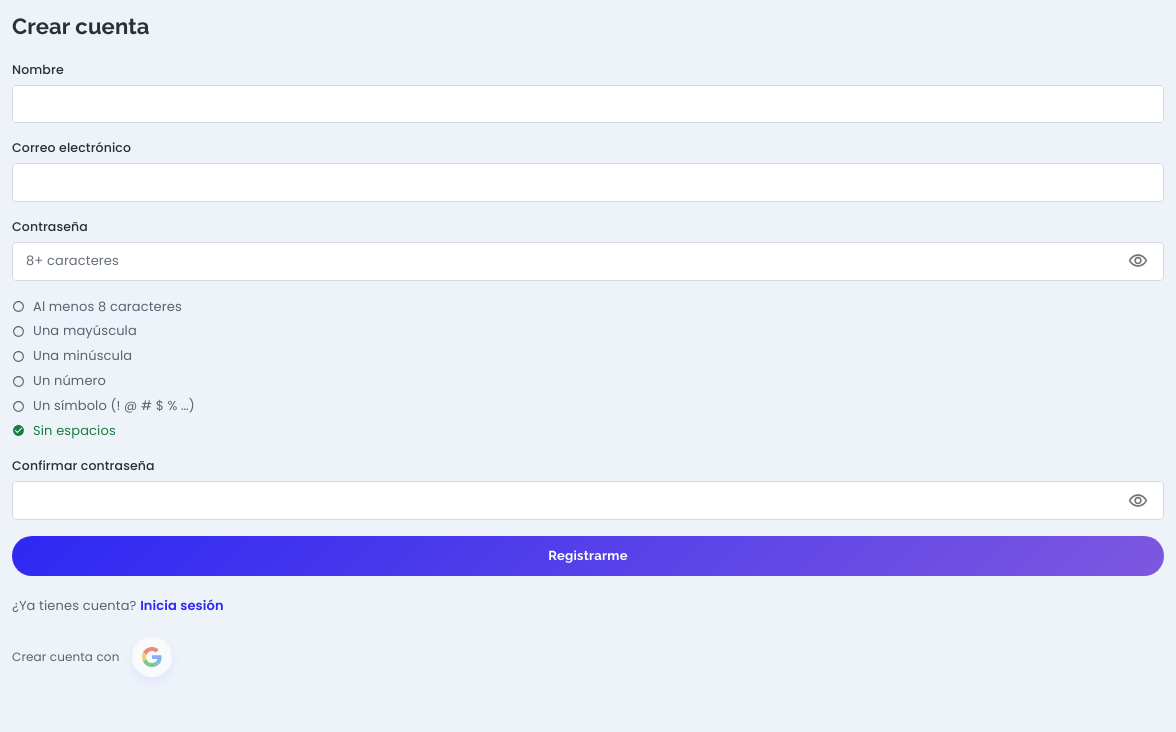
Test: <RegisterPage /> › exige que las contraseñas coincidan
Step 1. Type "Ana" into the field labelled "Nombre" → point(588, 104), box [12,85,1164,123]
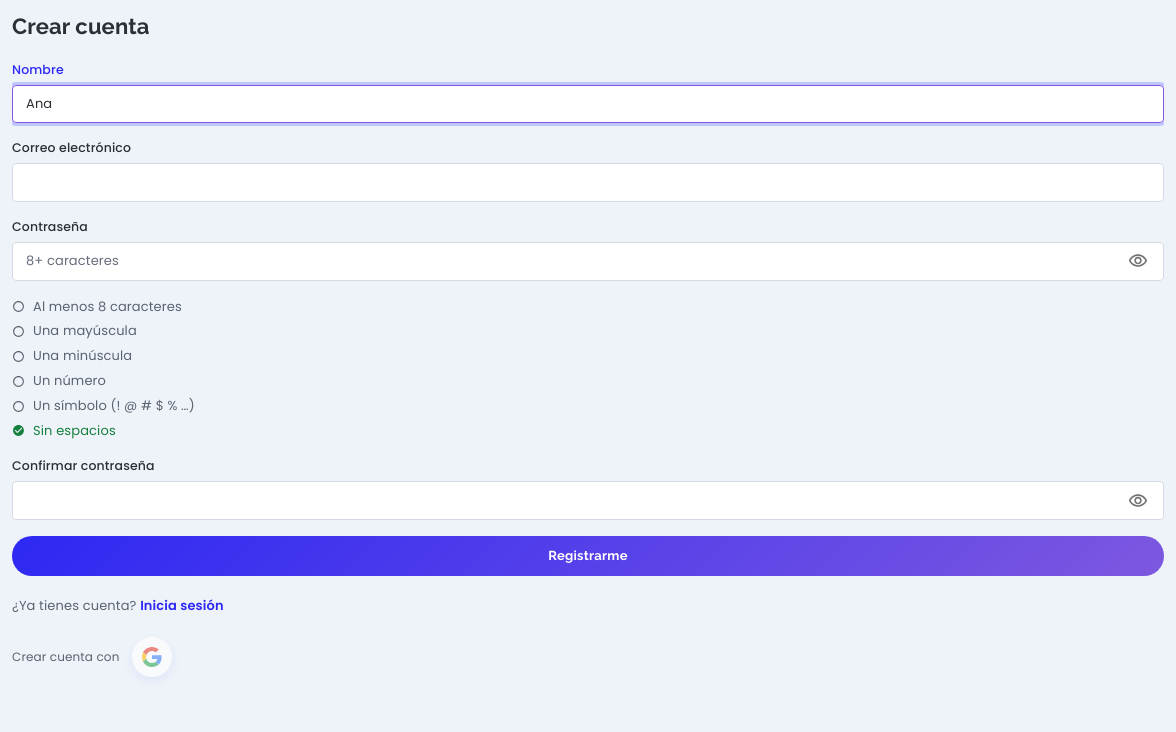
Step 2. Type "ana@example.com" into the field labelled "Correo electrónico" → point(588, 183), box [12,163,1164,202]
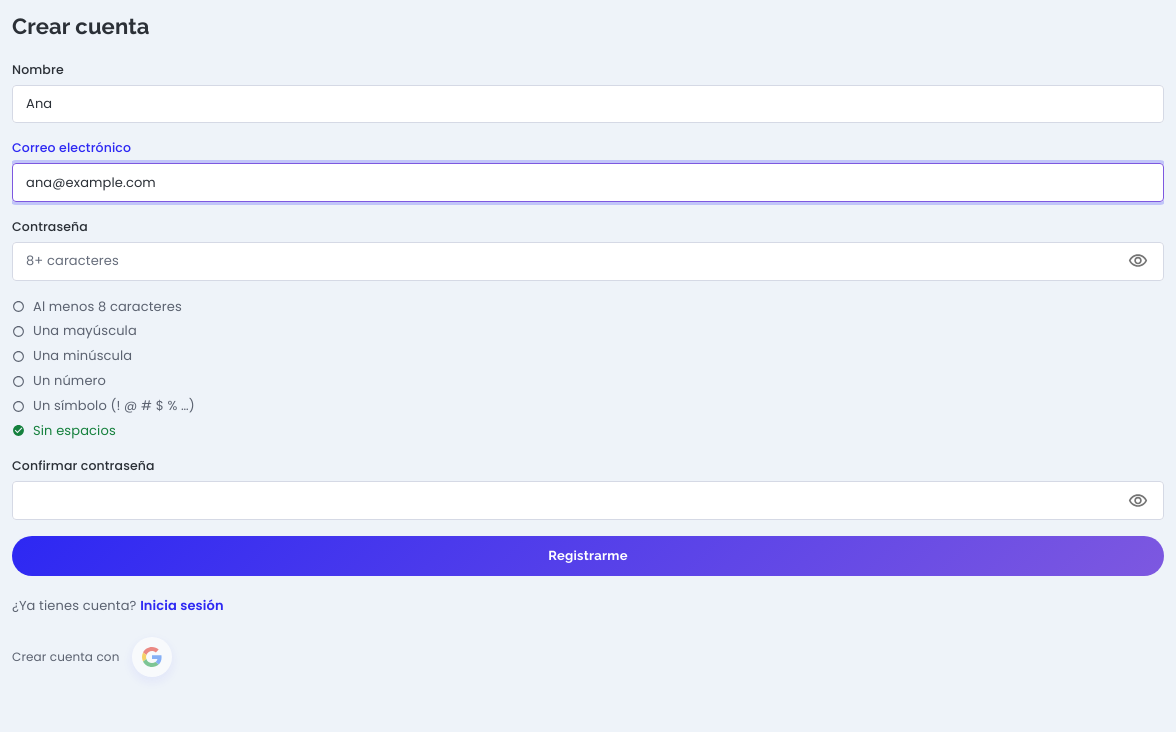
Step 3. Type "Segura#12345" into the password field labelled "Contraseña" → point(564, 261), box [12,242,1115,281]
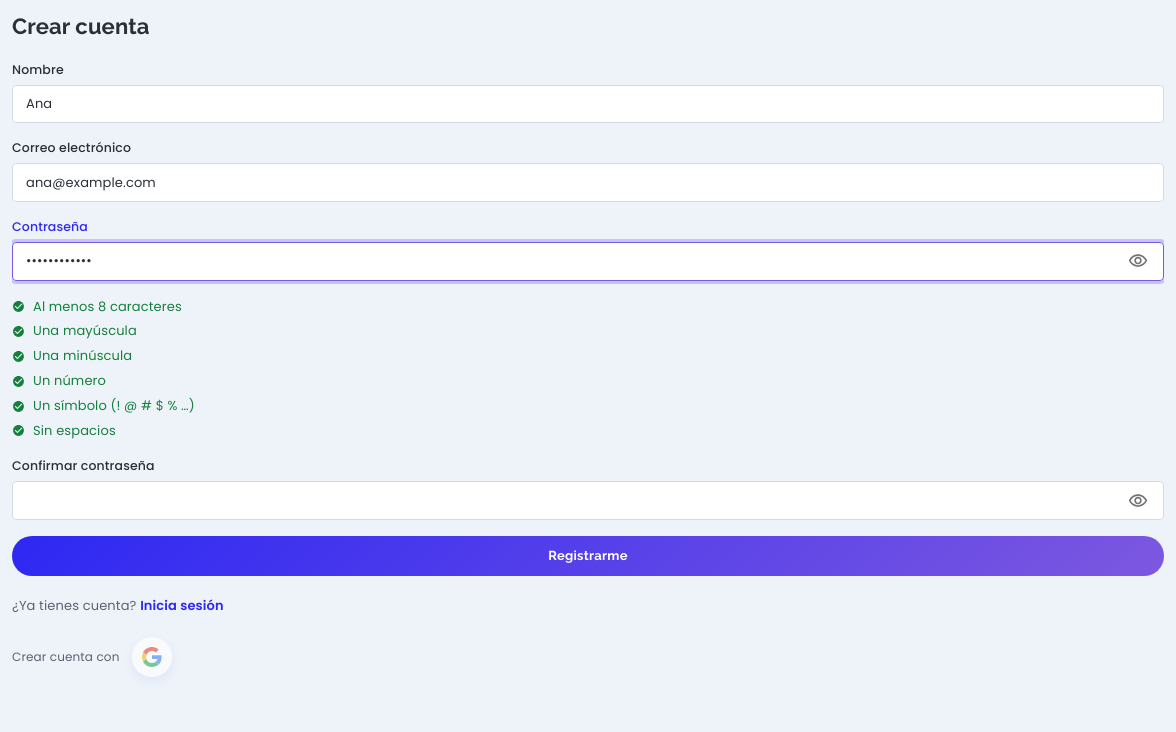
Step 4. Type "Otra#12345" into the password field labelled "Confirmar contraseña" → point(564, 501), box [12,481,1115,520]
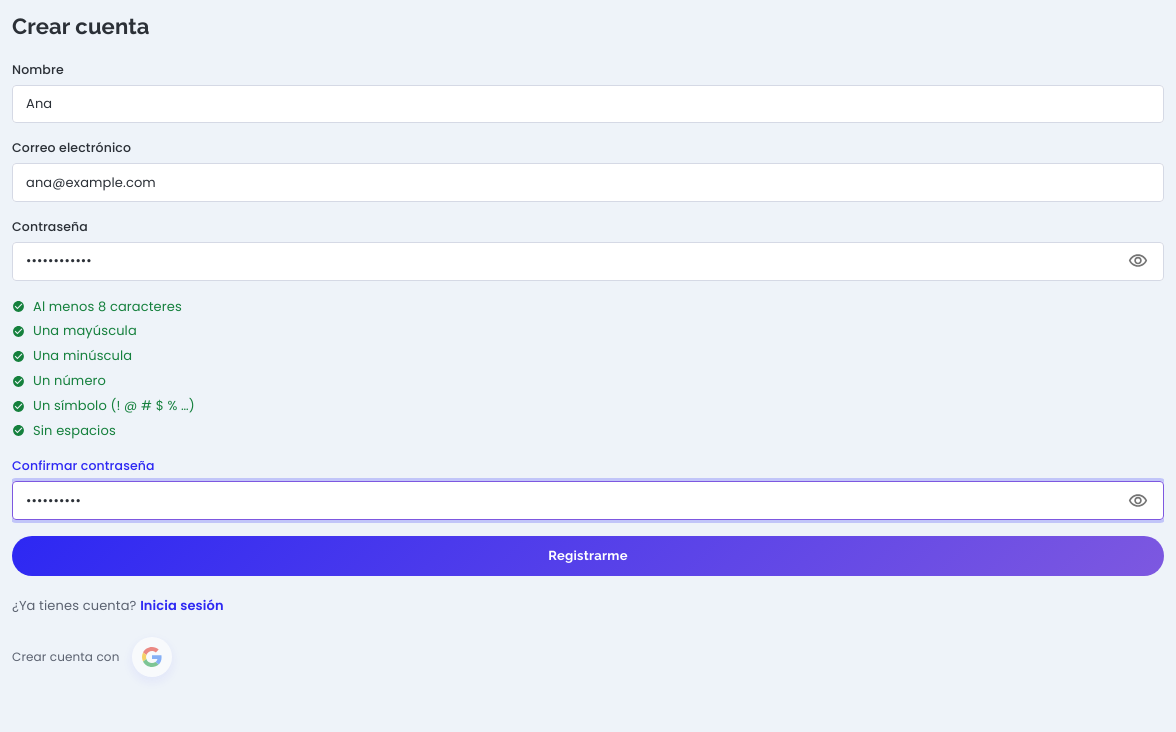
Step 5. Click the button "Registrarme" → point(588, 556), box [12,536,1164,576]
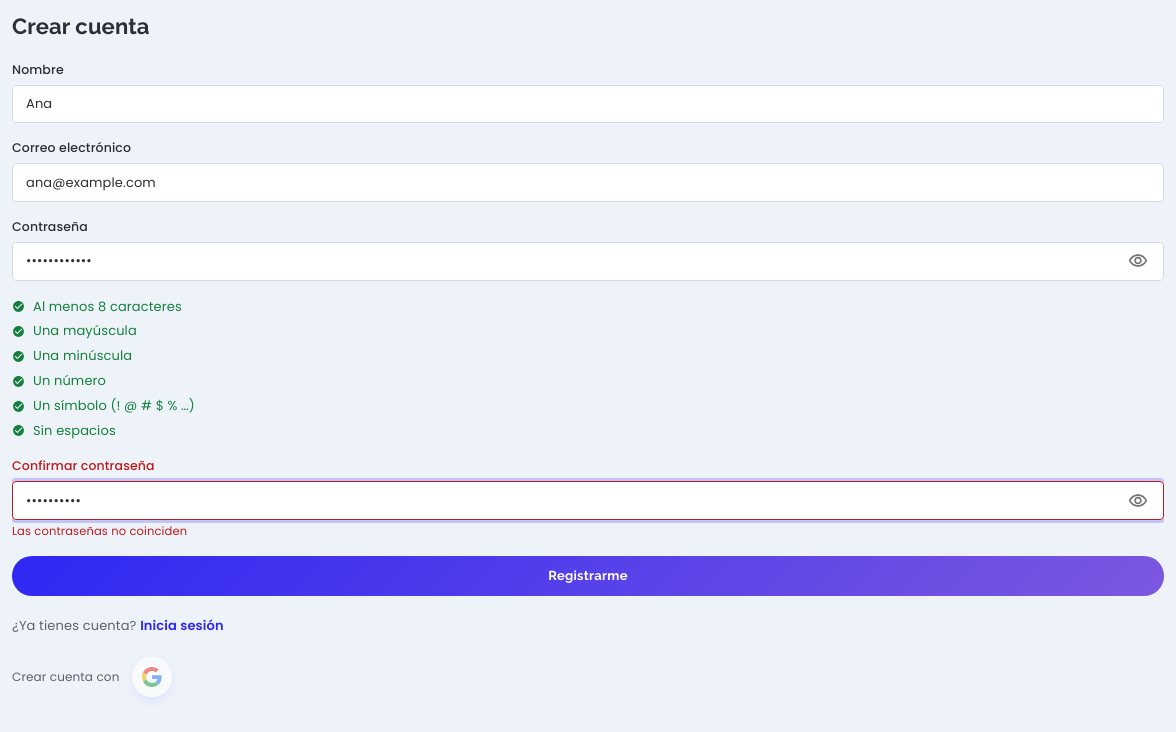
Expected: the text "Las contraseñas no coinciden" is shown, [12,523,187,539]
